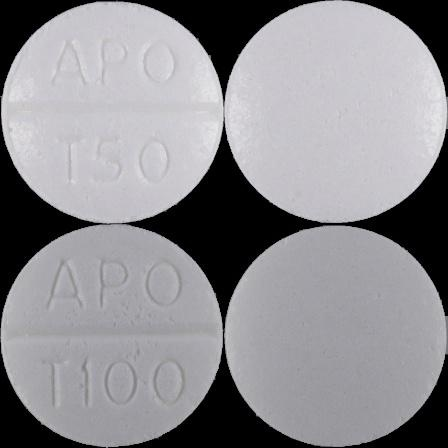0904-6554: (0, 0, 224, 224)
